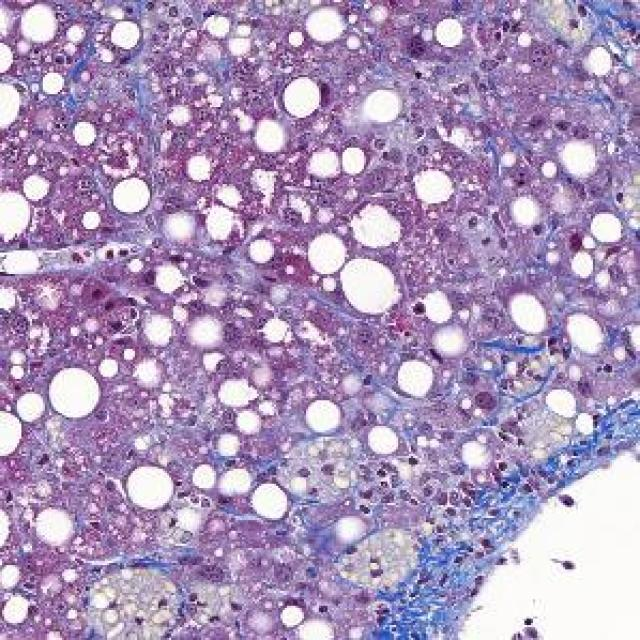fibrosis: (385, 467, 533, 614)
